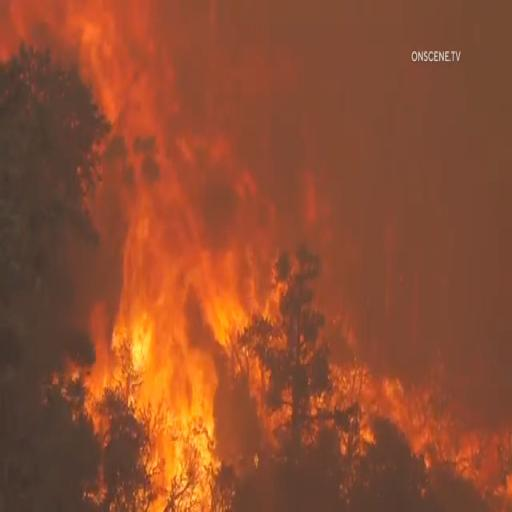fire: (218, 243, 500, 512), (81, 115, 235, 512)
